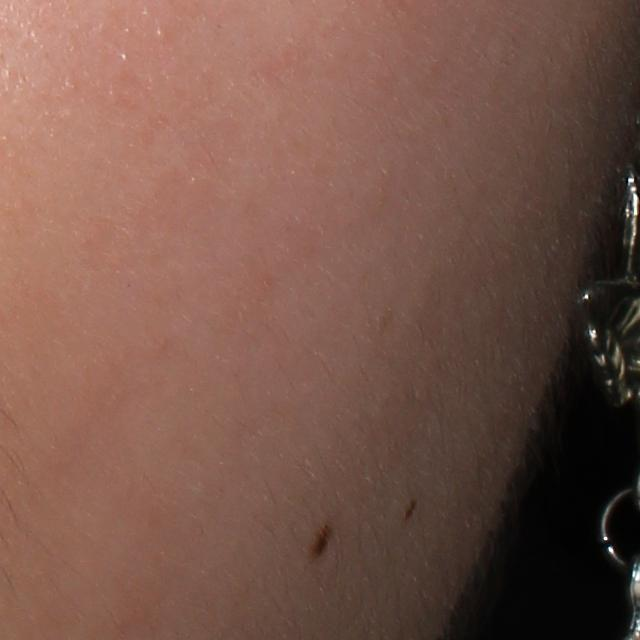nevus: (315, 525, 331, 557)
